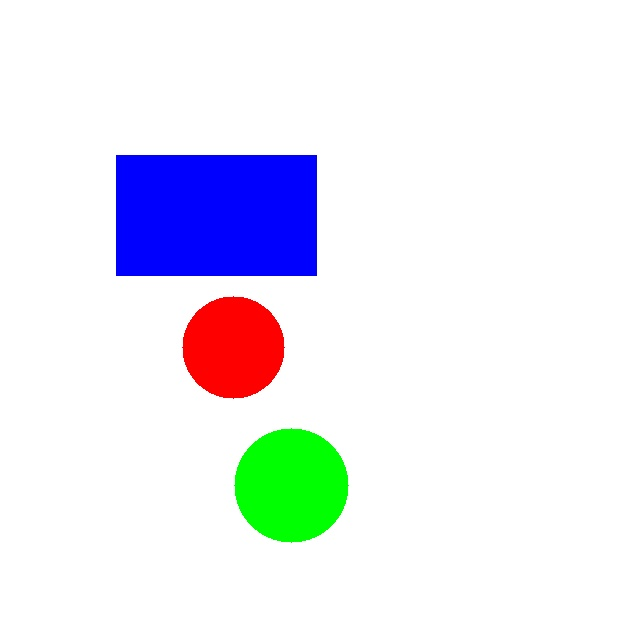cartao: (116, 155, 316, 275)
rosca_externa: (234, 428, 348, 542)
rosca_interna: (182, 296, 284, 398)
